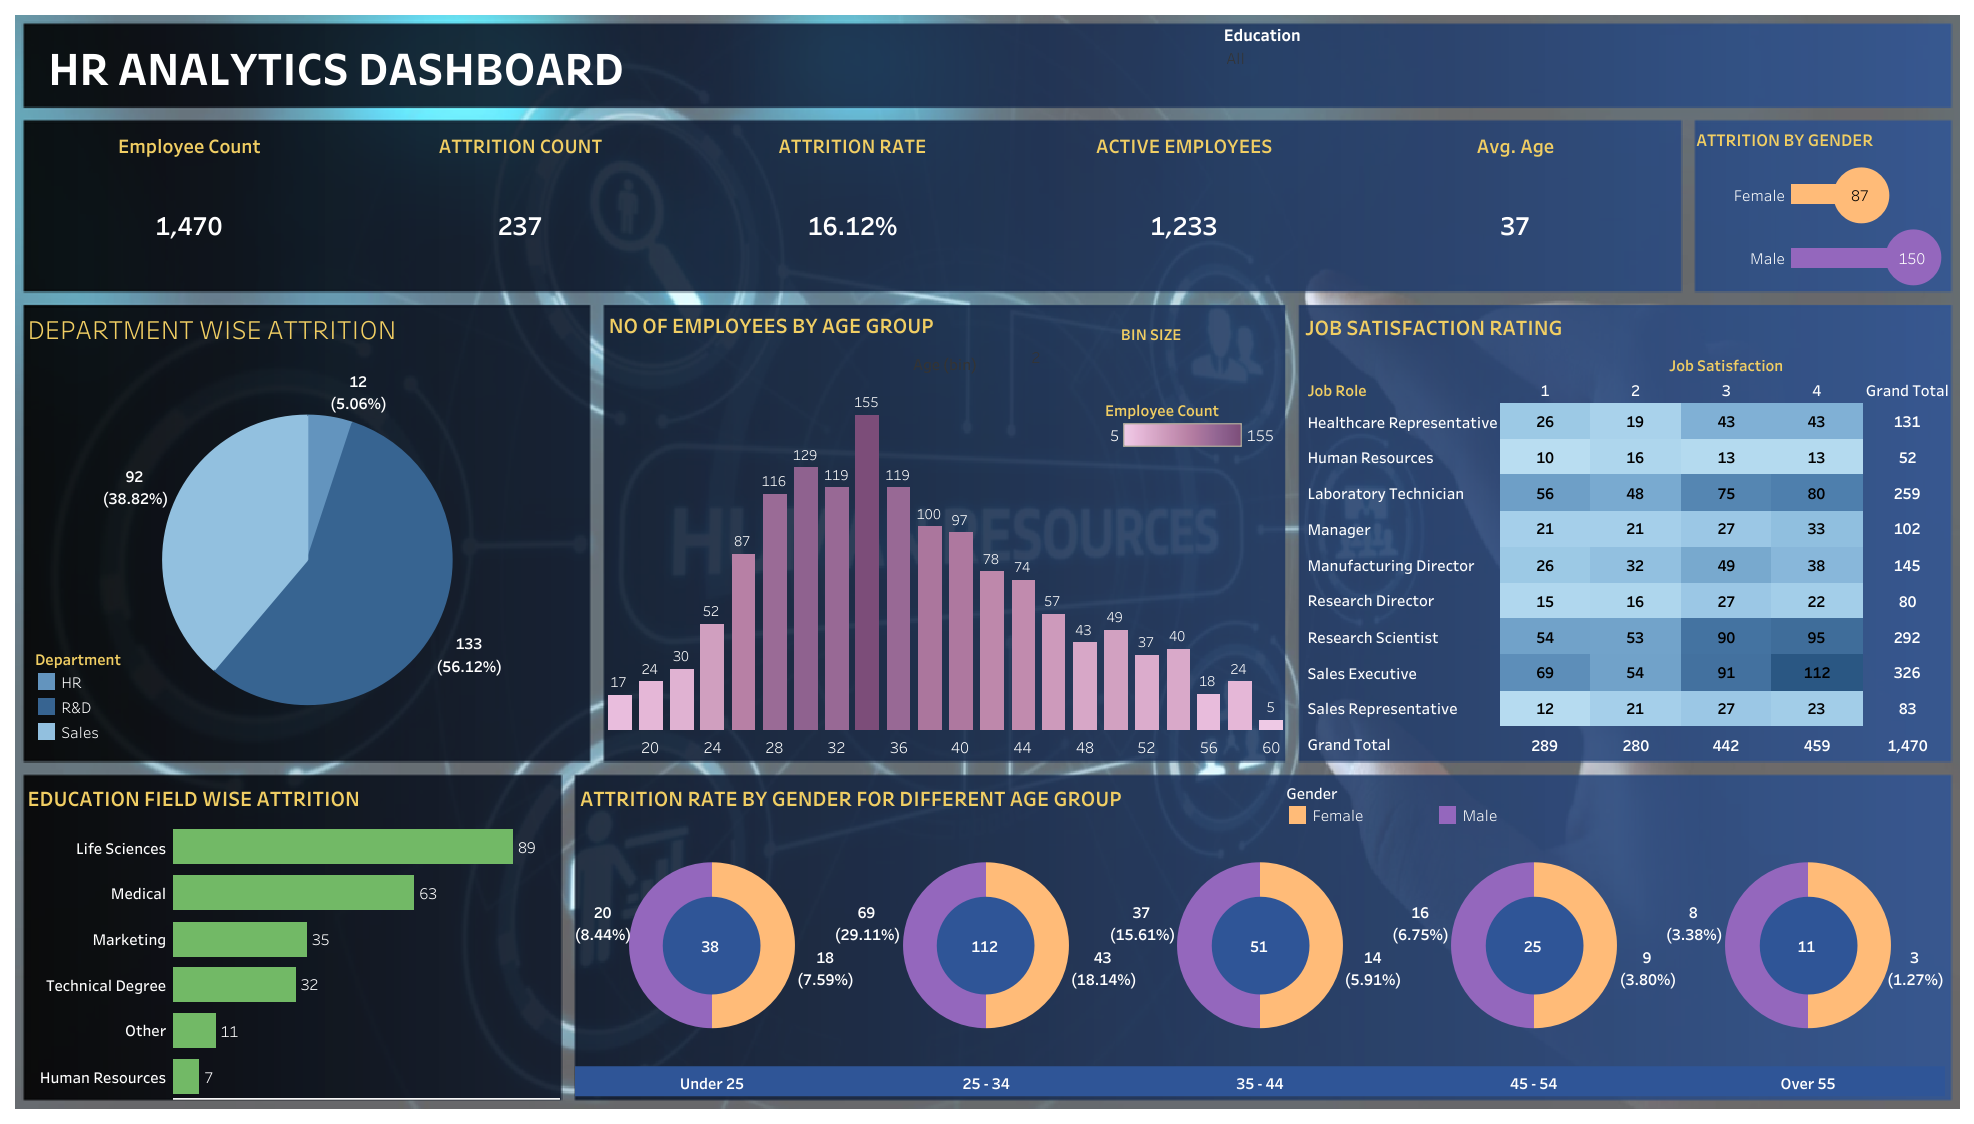

The dashboard page shown, as its layout file describes it:
{"tool":"tableau","page":{"name":"Dashboard 1","canvas":[1580,900],"ordinal":0},"visuals":[{"type":"image","param":"Image/HR background.pptx.png","box":[8,8,1564,884]},{"type":"filter","title":"DEPARTMENT WISE ATTRITION","param":"[federated.0wbqy1e0lo10d81cpulw20eqky4f].[none:Education:nk]","box":[979,17,378,68]},{"type":"text","box":[36,24,641,58]},{"type":"worksheet","title":"ATTRITION BY GENDER","mark":"Automatic","rows":["Gender"],"cols":["Calculation_778278322643513344","Calculation_778278322643513344"],"box":[1353,96,205,135]},{"type":"worksheet","title":"KPI","mark":"Automatic","box":[19,97,1326,131]},{"type":"worksheet","title":"NO OF EMPLOYEES BY AGE GROUP","mark":"Automatic","rows":["Employee Count"],"cols":["Age (bin)"],"box":[483,242,546,364]},{"type":"worksheet","title":"DEPARTMENT WISE ATTRITION","mark":"Pie","box":[18,243,455,366]},{"type":"worksheet","title":"JOB SATISFACTION RATING","mark":"Square","rows":["Job Role"],"cols":["Job Satisfaction"],"box":[1040,244,522,365]},{"type":"parameter","param":"[Parameters].[Parameter 1]","box":[823,257,196,54]},{"type":"legend","title":"NO OF EMPLOYEES BY AGE GROUP","param":"[federated.0wbqy1e0lo10d81cpulw20eqky4f].[sum:Employee Count:qk]","box":[884,315,140,88]},{"type":"legend","title":"DEPARTMENT WISE ATTRITION","param":"[federated.0wbqy1e0lo10d81cpulw20eqky4f].[none:Department:nk]","box":[27,516,140,85]},{"type":"worksheet","title":"EDUCATION FIELD WISE ATTRITION","mark":"Automatic","rows":["Education Field"],"cols":["Calculation_778278322643513344"],"box":[18,621,429,258]},{"type":"worksheet","title":"ATTRITION RATE BY GENDER FOR DIFFERENT AGE GROUP","mark":"Pie","rows":["Calculation_778278322700943365","Calculation_778278322700943365"],"cols":["CF_age band"],"box":[460,621,1096,256]},{"type":"legend","title":"ATTRITION RATE BY GENDER FOR DIFFERENT AGE GROUP","param":"[federated.0wbqy1e0lo10d81cpulw20eqky4f].[none:Gender:nk]","box":[1028,623,342,64]}]}

Visuals, with their boxes in screenshot pixels (x1, y1, x2, y2), scaled from the page's 1580x900 canvas onto the 1974x1124 screenshot:
image: 10:10:1964:1114
"DEPARTMENT WISE ATTRITION" filter: 1223:21:1695:106
text: 45:30:846:102
"ATTRITION BY GENDER" worksheet: 1690:120:1947:288
"KPI" worksheet: 24:121:1680:285
"NO OF EMPLOYEES BY AGE GROUP" worksheet: 603:302:1286:757
"DEPARTMENT WISE ATTRITION" worksheet (Pie marks): 22:303:591:761
"JOB SATISFACTION RATING" worksheet (Square marks): 1299:305:1952:761
parameter: 1028:321:1273:388
"NO OF EMPLOYEES BY AGE GROUP" legend: 1104:393:1279:503
"DEPARTMENT WISE ATTRITION" legend: 34:644:209:751
"EDUCATION FIELD WISE ATTRITION" worksheet: 22:776:558:1098
"ATTRITION RATE BY GENDER FOR DIFFERENT AGE GROUP" worksheet (Pie marks): 575:776:1944:1095
"ATTRITION RATE BY GENDER FOR DIFFERENT AGE GROUP" legend: 1284:778:1712:858
